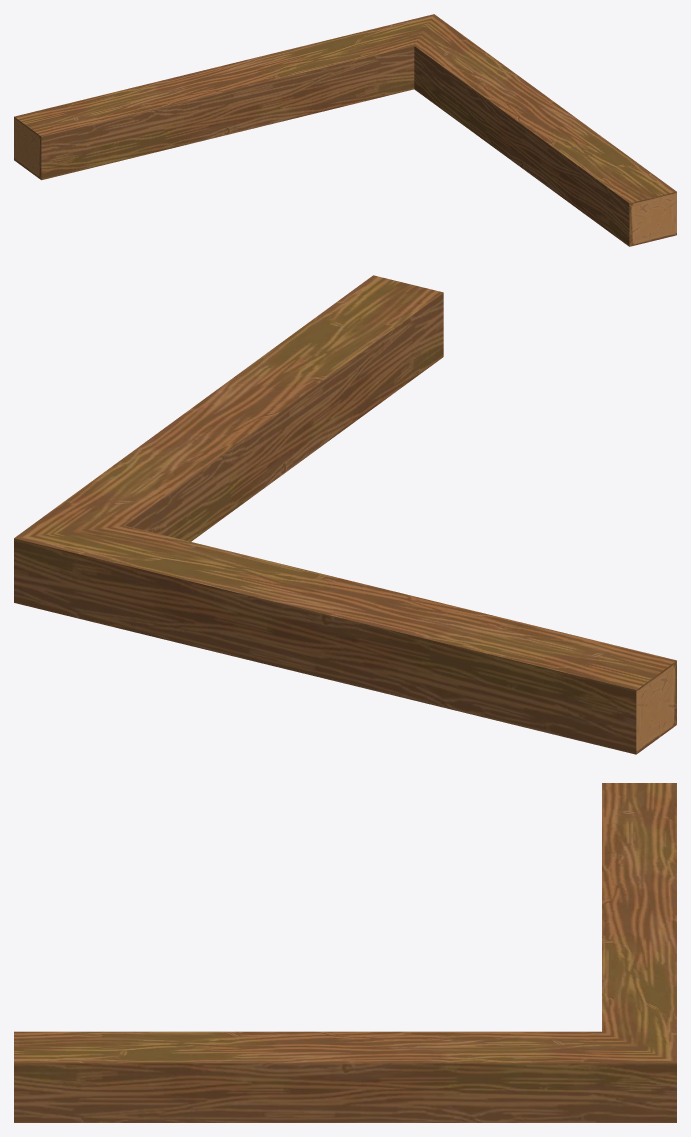
The model's file is holecover_90angle.glb.
3 renders of one model, top to bottom at view 1: azimuth 30°, elevation 25°; view 2: azimuth 150°, elevation 25°; view 3: azimuth 270°, elevation 25°, orthographic. The views are drawn at different scales.
Bounding box in the file's own units: 2.12 × 0.2101 × 2.12.
1 material, 1 textured.
